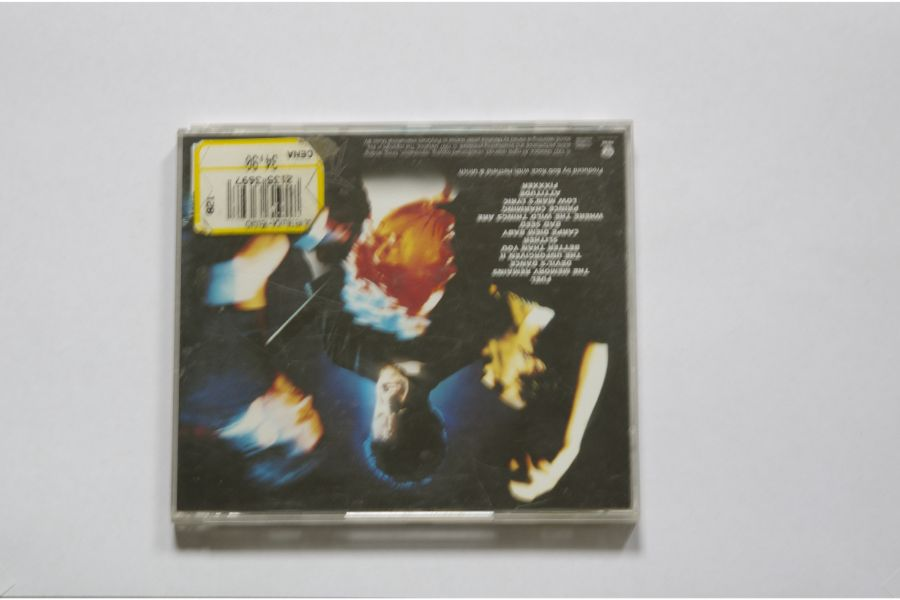album: (169, 120, 643, 524)
